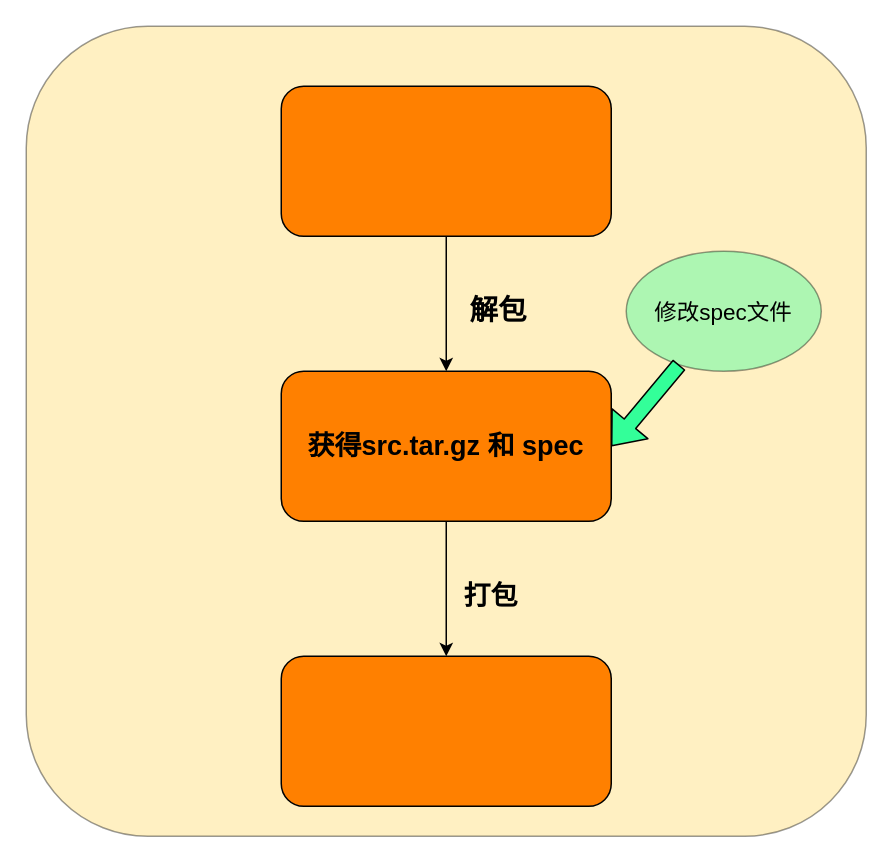
Image size: 893x863. Some labels were removed from this diagram. Here are the shapes that lost their labels. From the top down, the box of each, then its label:
(280, 85, 611, 236): 取得src.rpm包 https://vault.centos.org
(280, 655, 611, 806): 安装使用的rpm包
